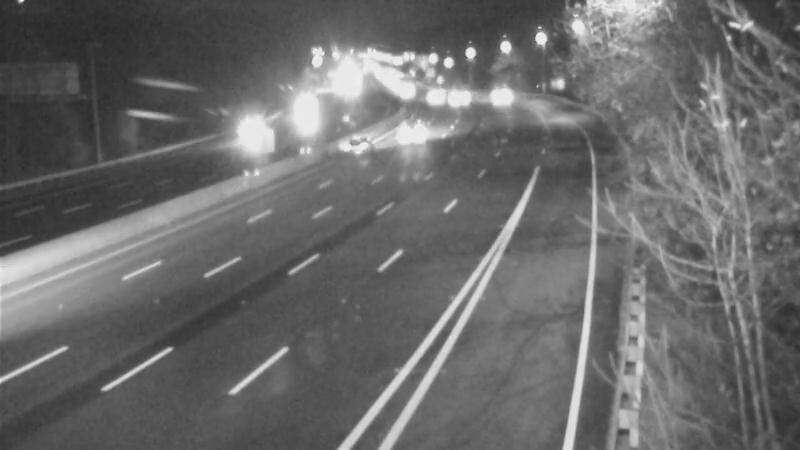vehicle: (474, 71, 524, 121), (384, 68, 434, 118), (406, 72, 456, 122), (425, 68, 475, 118), (392, 107, 442, 157), (331, 121, 381, 171), (225, 107, 275, 157), (278, 87, 328, 137)
